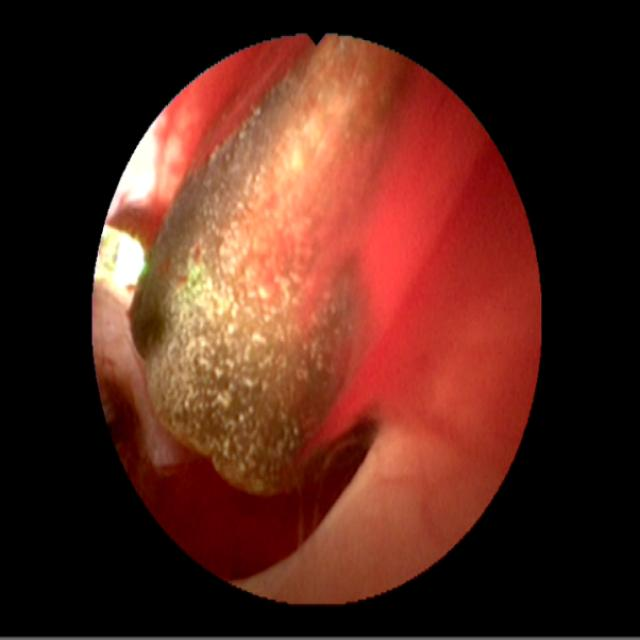stone: (132, 41, 399, 494)
tissue: (99, 76, 530, 598)
